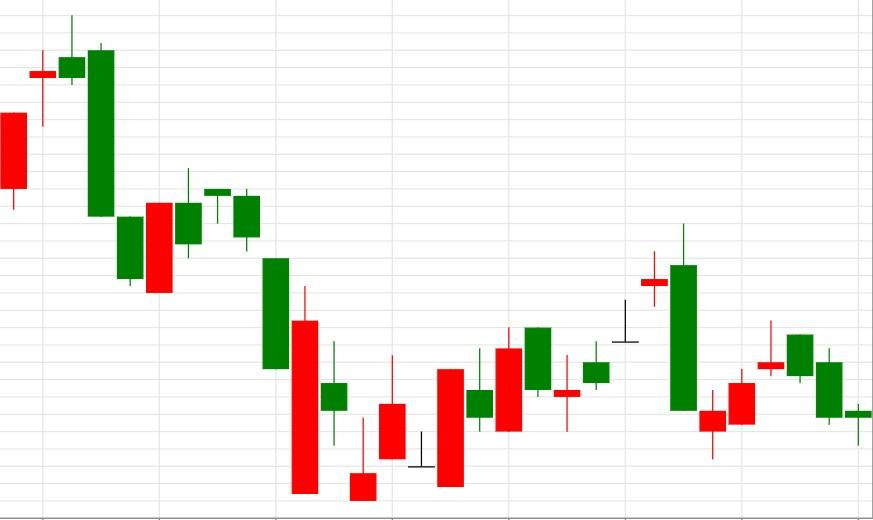bearish_engulfing_fall: (552, 223, 698, 433)
inverse_hammer_rise: (204, 187, 376, 502)
three_black_crows_fall: (116, 167, 291, 370)
